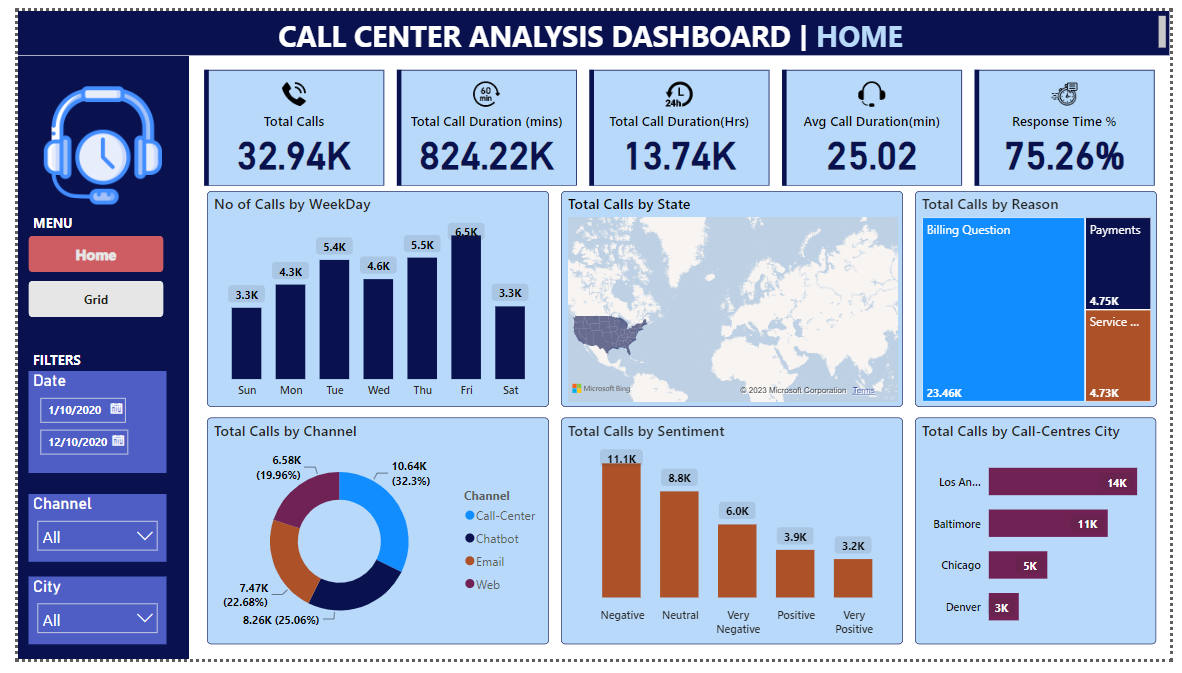

Layout of this report page (visuals, bound fields, positions):
{"tool":"powerbi","page":{"name":"Home ","canvas":[1280,720],"ordinal":0},"visuals":[{"type":"shape","box":[0,0,1279.5,49.3],"z":0},{"type":"shape","box":[0,49.3,190,670.7],"z":1000},{"type":"cardVisual","fields":{"Data":["Call Center_Call Center.Total Calls","Call Center_Call Center.Total Call Duration (mins)","Call Center_Call Center.Total Call Duration(Hrs)","Call Center_Call Center.Avg Call Duration(min)","Call Center_Call Center.Response Time %"]},"box":[201.9,60.4,1070,139.9],"z":2000},{"type":"textbox","box":[0,0,1280,48.8],"z":3000},{"type":"columnChart","fields":{"Category":["Call Center_Call Center.WeekDay"],"Y":["Call Center_Call Center.No of Calls"]},"box":[210,200,380,240],"z":4000},{"type":"filledMap","fields":{"Category":["Call Center_Call Center.State"]},"box":[603.3,200,380,240],"z":5000},{"type":"treemap","fields":{"Group":["Call Center_Call Center.Reason"],"Values":["Call Center_Call Center.Total Calls"]},"box":[996.7,200,268.3,240],"z":6000},{"type":"donutChart","fields":{"Category":["Call Center_Call Center.Channel"],"Y":["Call Center_Call Center.Total Calls"]},"box":[210,451.7,380,251.7],"z":7000},{"type":"columnChart","fields":{"Category":["Call Center_Call Center.Sentiment"],"Y":["Call Center_Call Center.Total Calls"]},"box":[603,452,380,252],"z":8000},{"type":"barChart","fields":{"Category":["Call Center_Call Center.Call-Centres City"],"Y":["Call Center_Call Center.Total Calls"]},"box":[997,452,268,252],"z":9000},{"type":"slicer","title":"Channel","fields":{"Values":["Call Center_Call Center.Channel"]},"box":[11.7,536.7,153.3,75],"z":10000},{"type":"slicer","title":"Date","fields":{"Values":["Call Center_Call Center.Call Timestamp"]},"box":[11.7,400,153.3,113.3],"z":11000},{"type":"slicer","title":"City","fields":{"Values":["Call Center_Call Center.City"]},"box":[11.7,628.3,153.3,75],"z":12000},{"type":"image","box":[23.3,78.3,141.7,141.7],"z":13000},{"type":"pageNavigator","box":[11.7,250,150,91],"z":14000},{"type":"textbox","box":[11.7,220,65,30],"z":15000},{"type":"textbox","box":[11.2,371.2,77.5,30],"z":16000}]}

Visuals, with their boxes in screenshot pixels (x1, y1, x2, y2), scaled from the page's 1280x720 canvas onto the 1182x673 screenshot:
shape: region(0, 0, 1181, 46)
shape: region(0, 46, 175, 672)
cardVisual - Call Center_Call Center.Total Calls x Call Center_Call Center.Total Call Duration (mins): region(186, 56, 1175, 187)
textbox: region(0, 0, 1181, 46)
columnChart - Call Center_Call Center.WeekDay x Call Center_Call Center.No of Calls: region(194, 187, 545, 411)
filledMap - Call Center_Call Center.State: region(557, 187, 908, 411)
treemap - Call Center_Call Center.Reason x Call Center_Call Center.Total Calls: region(920, 187, 1168, 411)
donutChart - Call Center_Call Center.Channel x Call Center_Call Center.Total Calls: region(194, 422, 545, 657)
columnChart - Call Center_Call Center.Sentiment x Call Center_Call Center.Total Calls: region(557, 422, 908, 658)
barChart - Call Center_Call Center.Call-Centres City x Call Center_Call Center.Total Calls: region(921, 422, 1168, 658)
"Channel" slicer: region(11, 502, 152, 572)
"Date" slicer: region(11, 374, 152, 480)
"City" slicer: region(11, 587, 152, 657)
image: region(22, 73, 152, 206)
pageNavigator: region(11, 234, 149, 319)
textbox: region(11, 206, 71, 234)
textbox: region(10, 347, 82, 375)
